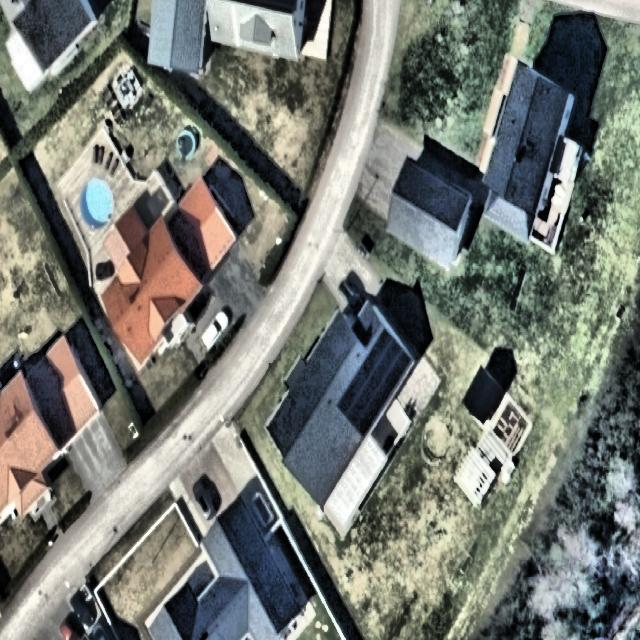roof_pv: (371, 324, 416, 426), (336, 354, 370, 439)
